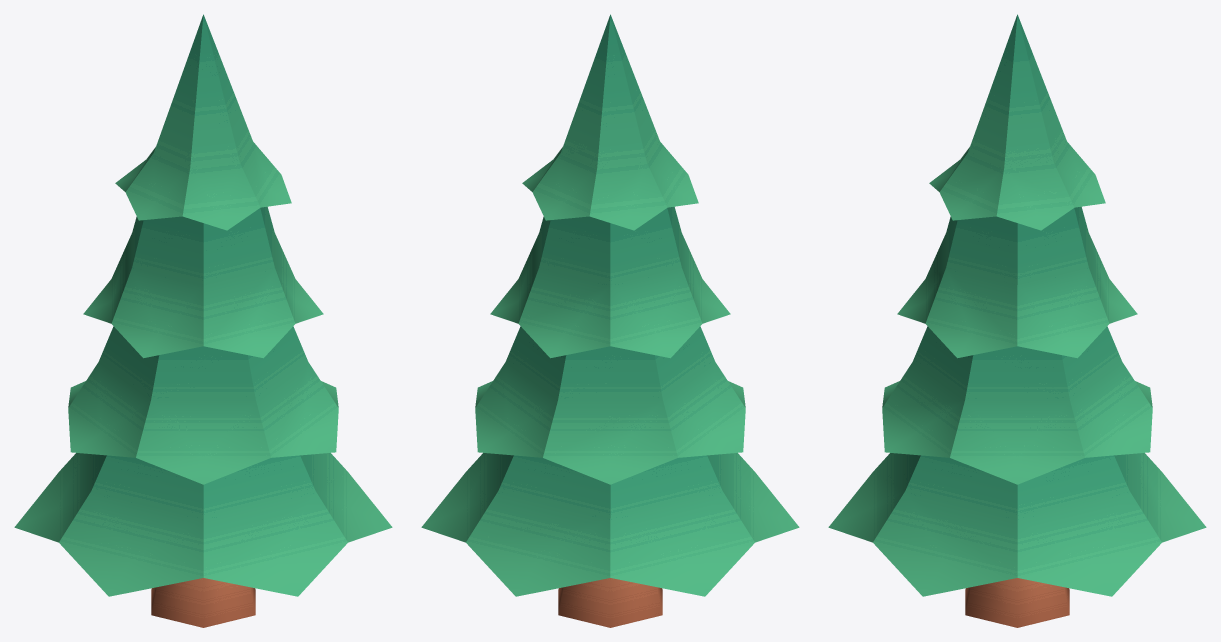
The model's file is pinetree.glb.
The picture shows the model from 3 angles, left to right: view 1: azimuth 30°, elevation 25°; view 2: azimuth 150°, elevation 25°; view 3: azimuth 270°, elevation 25°; orthographic projection.
Visible parts, largest first — view 1: pine; view 2: pine; view 3: pine.
Part boxes in pixels (x1=…): pine: x1=14, y1=14, x2=392, y2=627; pine: x1=421, y1=14, x2=799, y2=627; pine: x1=828, y1=14, x2=1206, y2=627.
Bounding box in the file's own units: 1.18 × 2.29 × 1.33.
1 material, 1 textured.
